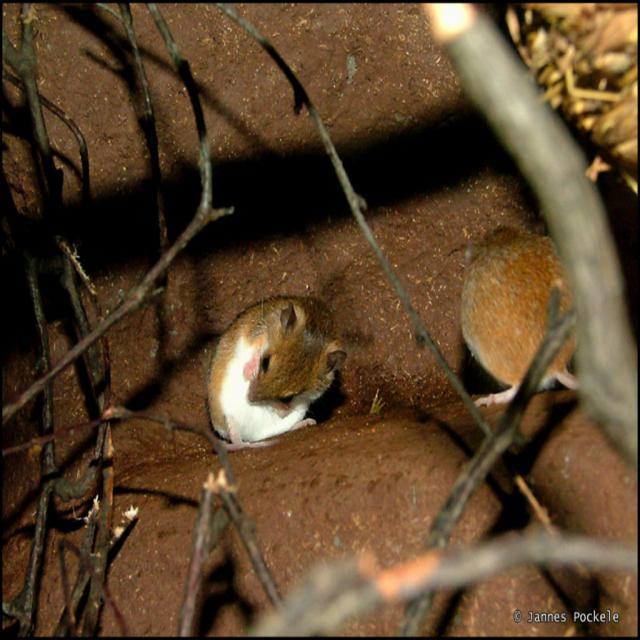rat: (202, 291, 350, 450), (458, 224, 582, 409)
